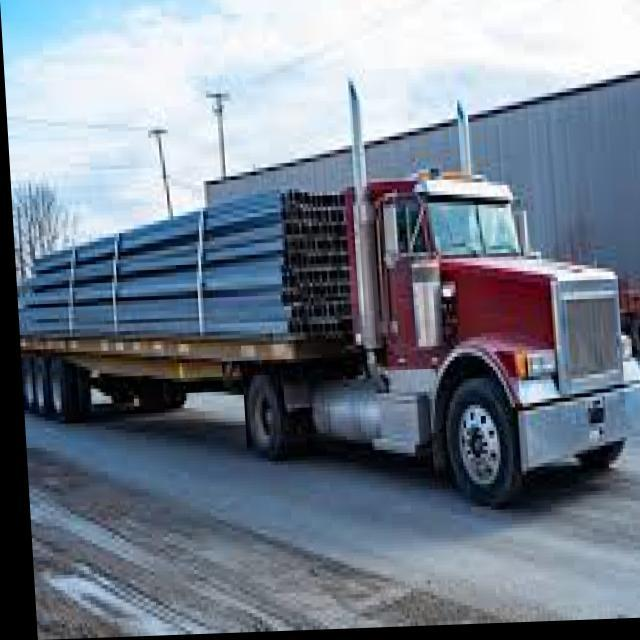uncovered: (9, 174, 632, 512)
